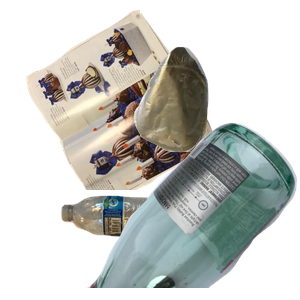glass: (86, 120, 300, 300)
paper: (24, 10, 235, 190)
plastic: (59, 193, 241, 300)
trash: (131, 44, 300, 189)
